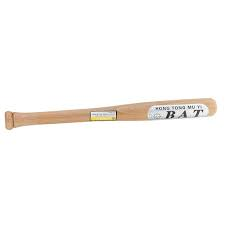baseball bat: (3, 96, 217, 132)
